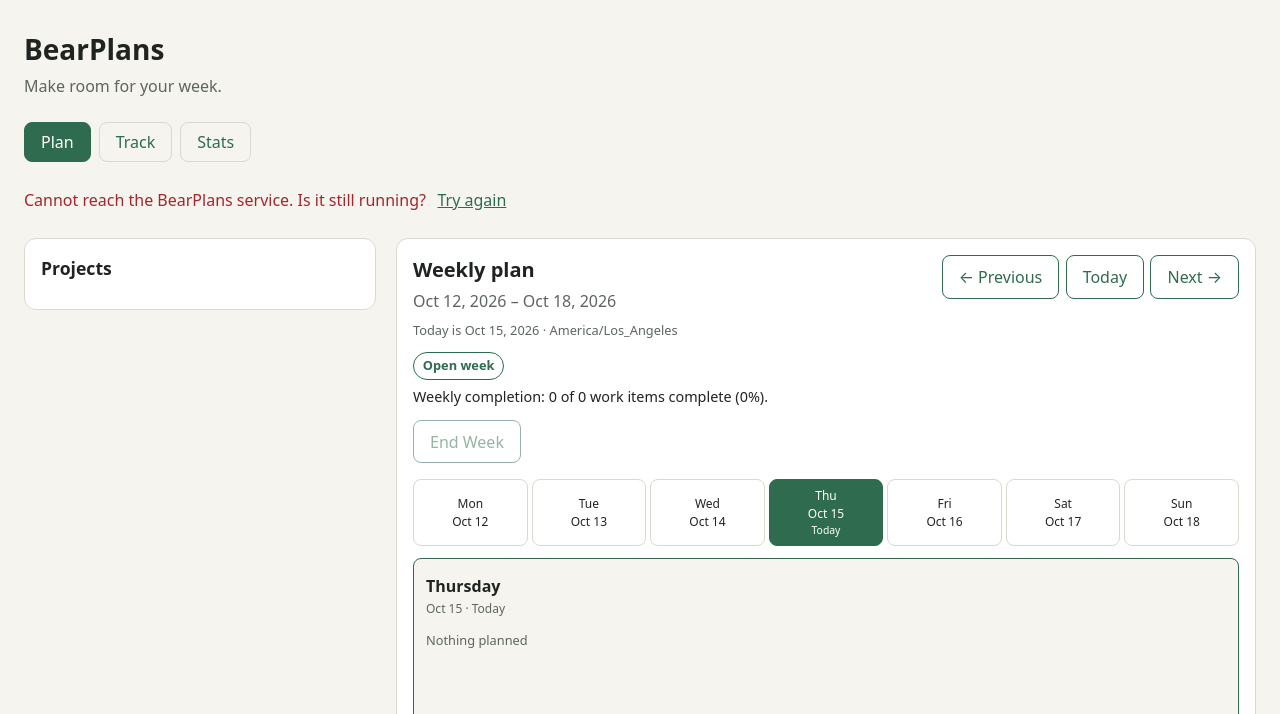
Test: a failed projects load reports the problem and can be retried
Check: the message shows "Cannot reach the BearPlans service", box [24, 189, 426, 211]
Click the button "Try again" at (472, 200), box [430, 182, 514, 218]
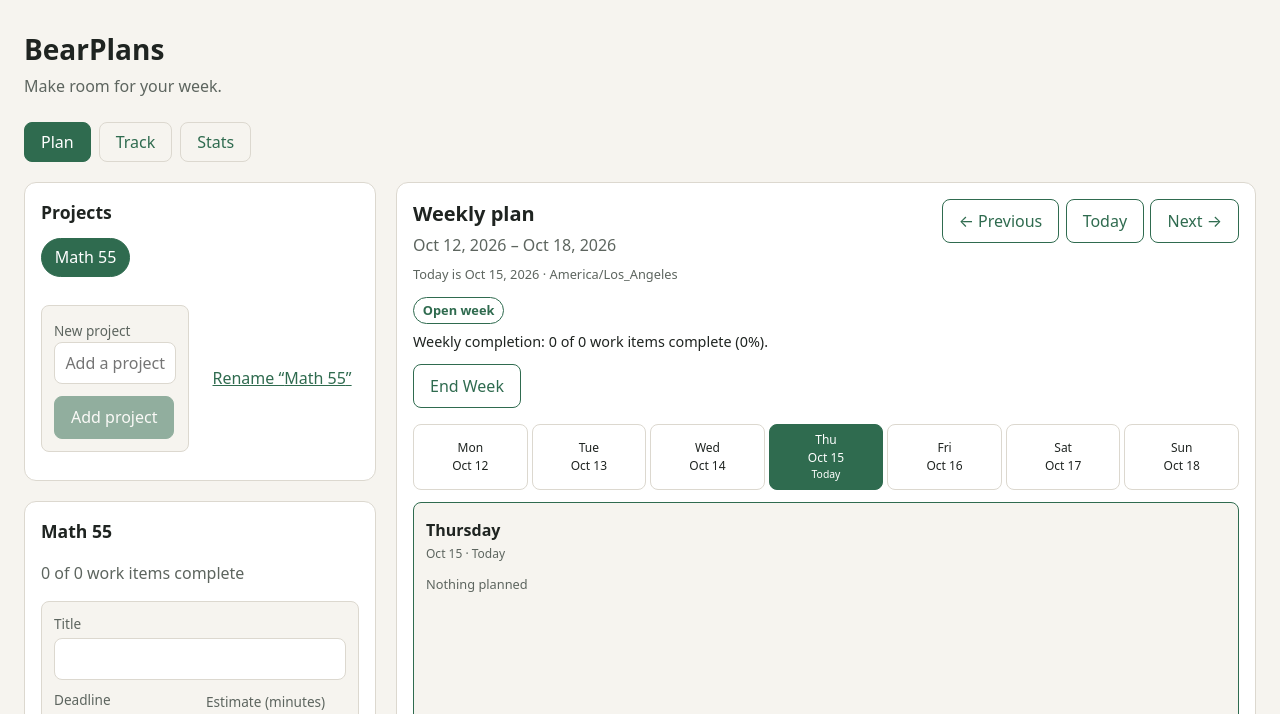
Check: the button "Math 55" is shown, box [41, 238, 130, 277]
